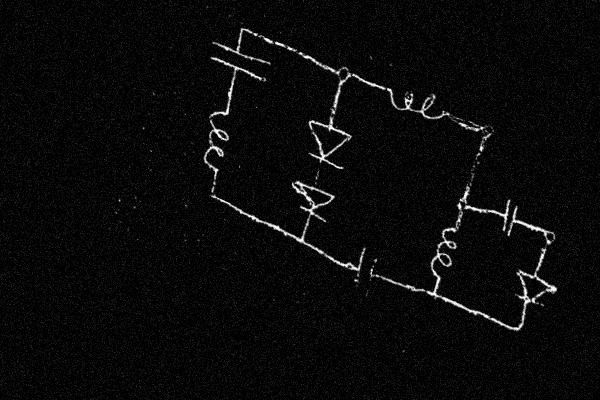capacitor: (202, 29, 277, 90), (345, 241, 389, 302), (493, 194, 525, 240)
diode: (296, 109, 360, 175), (282, 168, 342, 227), (505, 262, 563, 319)
inductor: (189, 95, 245, 185), (380, 72, 459, 135), (423, 213, 467, 288)
